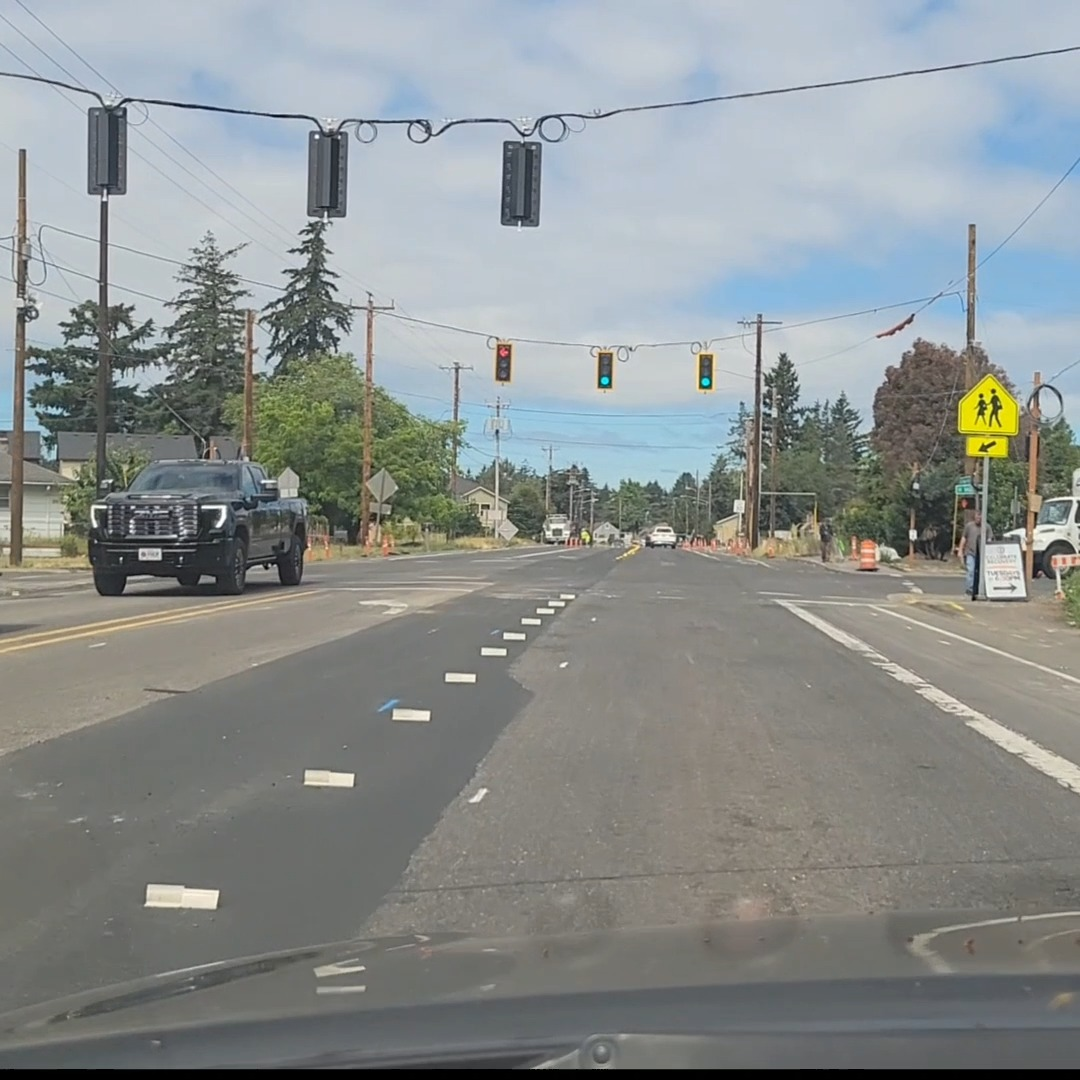car: (644, 525, 677, 547)
delineator: (729, 536, 749, 555), (363, 523, 375, 554), (322, 535, 333, 565), (381, 533, 391, 555), (850, 535, 859, 558), (764, 539, 775, 557)
